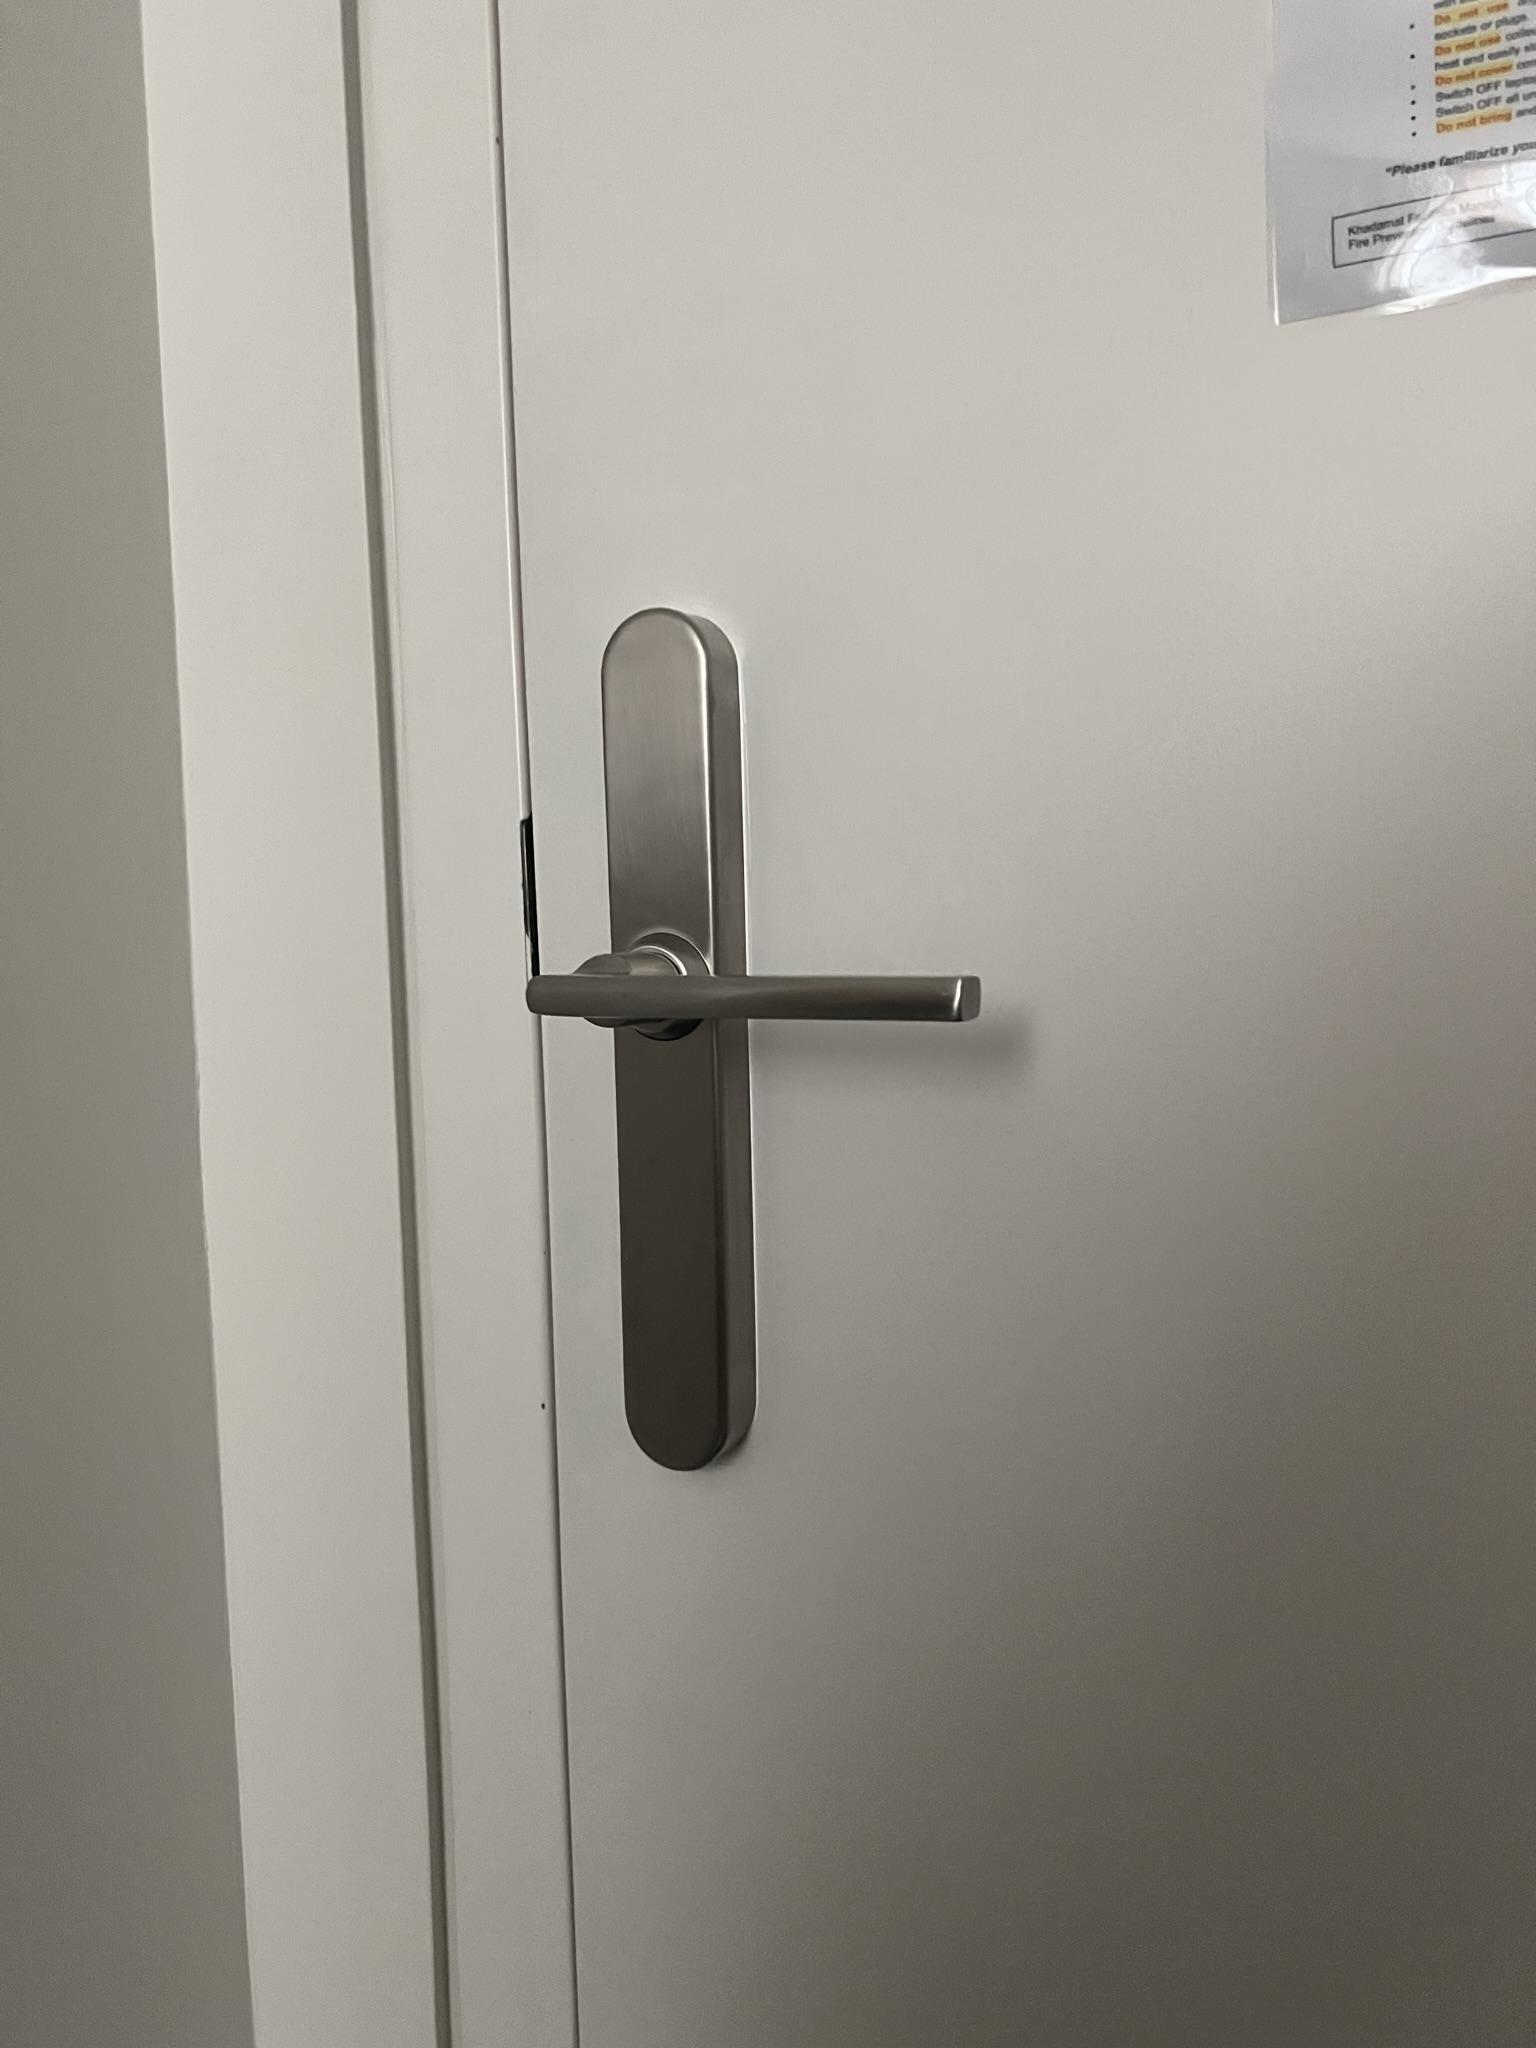handle: (502, 601, 992, 1474)
